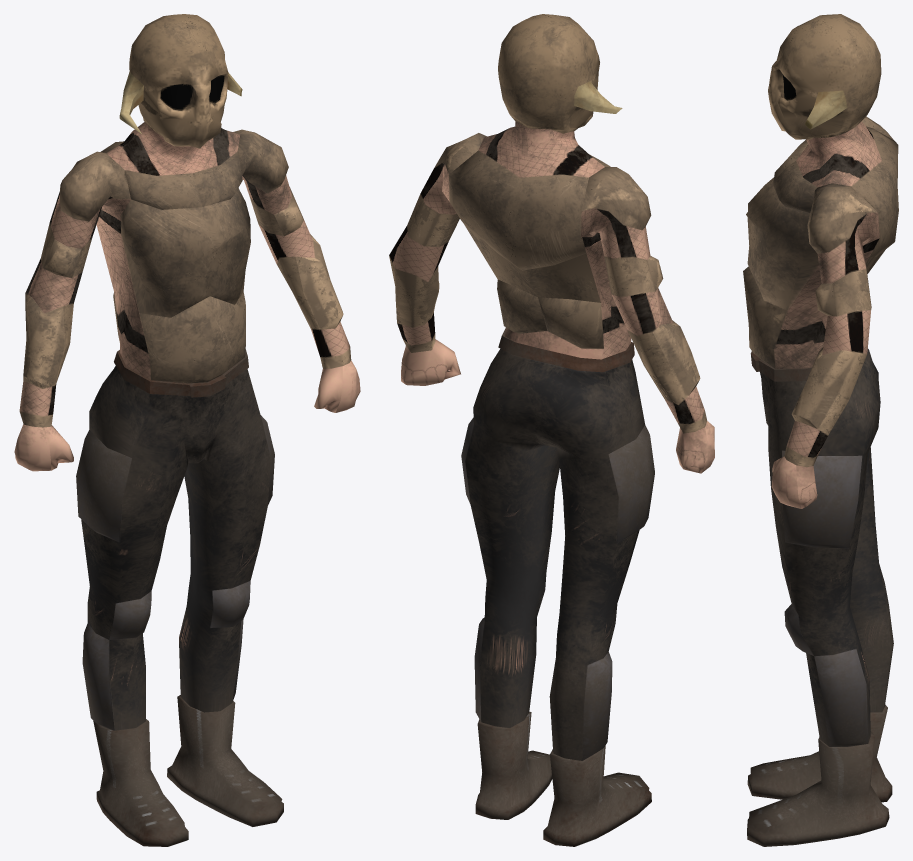
The model's file is Anim_interruptor_npc1.0015.obj.
3 views of the same model, side by side, from view 1: azimuth 30°, elevation 25°; view 2: azimuth 150°, elevation 25°; view 3: azimuth 270°, elevation 25° (orthographic).
Parts seen in each view (by area): view 1: NPC2; view 2: NPC2; view 3: NPC2.
Part boxes in pixels (x1,y1,x2,y2): NPC2: (14, 14, 360, 846); NPC2: (389, 14, 714, 846); NPC2: (743, 14, 898, 846).
Size of the model in its own units: 4.17 by 9.67 by 1.72.
